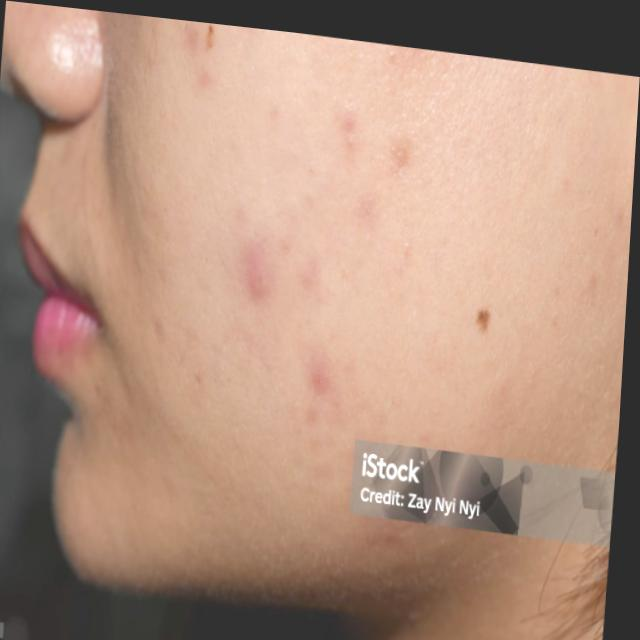papule: (326, 97, 369, 164), (247, 233, 285, 301), (391, 107, 428, 165), (310, 350, 343, 403), (353, 179, 382, 222), (299, 246, 322, 282), (235, 194, 250, 225), (281, 225, 299, 249), (186, 17, 199, 46), (307, 398, 323, 420), (266, 94, 281, 117), (200, 65, 214, 84)
